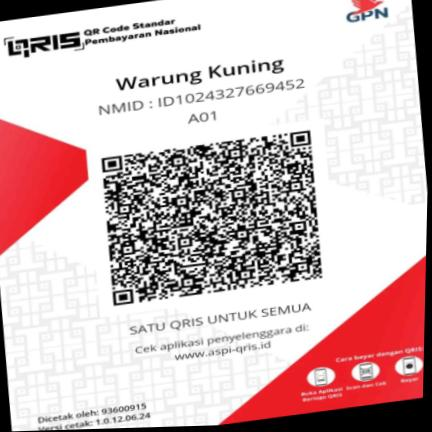Barcode_Asli: (85, 114, 340, 320)
